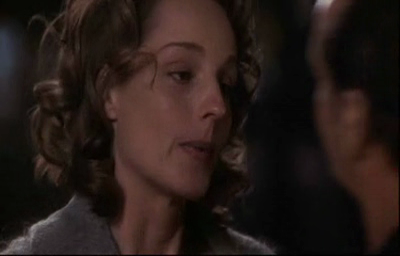cu: (1, 1, 400, 256)
face: (128, 7, 235, 202)
ots: (309, 1, 400, 254)
person: (1, 1, 277, 254)
